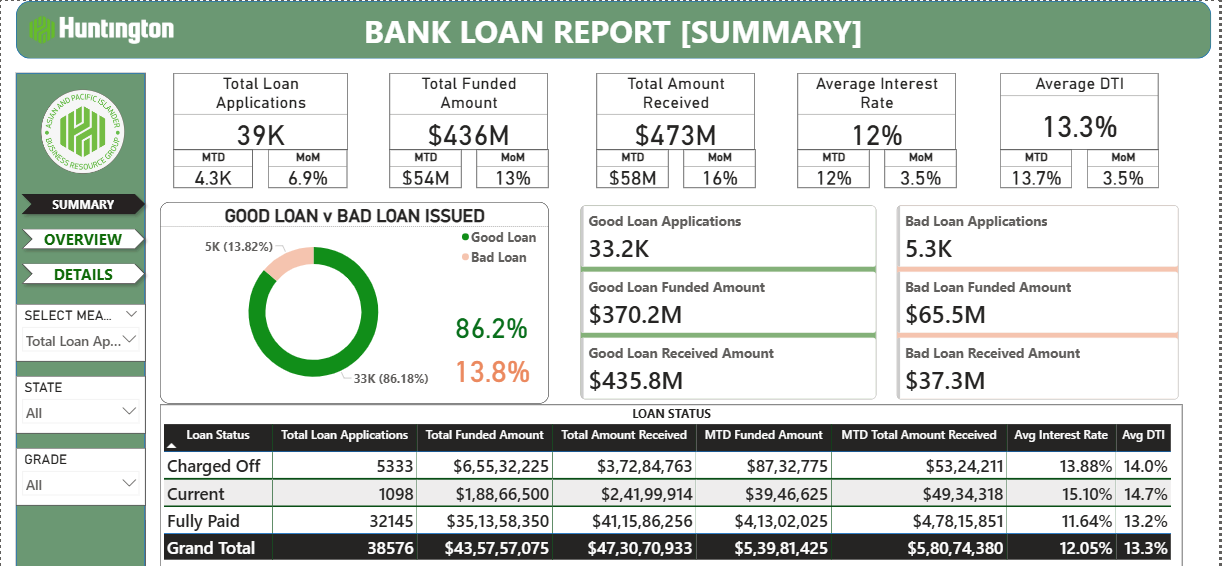

Layout of this report page (visuals, bound fields, positions):
{"tool":"powerbi","page":{"name":"SUMMARY","canvas":[2030,960],"ordinal":0},"visuals":[{"type":"shape","box":[24,0,1992,96],"z":0},{"type":"card","title":"Total Loan Applications","fields":{"Values":["bank bank_loan_data.Total Loan Applications"]},"box":[288,120,290.4,128],"z":0,"group":"g1"},{"type":"card","title":"Total Funded Amount","fields":{"Values":["bank bank_loan_data.Total Funded Amount"]},"box":[648.3,120,264,128],"z":0,"group":"g2"},{"type":"card","title":"Total Amount Received","fields":{"Values":["bank bank_loan_data.Total Amount Received"]},"box":[991.5,120,264,128],"z":0,"group":"g3"},{"type":"card","title":"Average Interest Rate","fields":{"Values":["bank bank_loan_data.Avg Interest Rate"]},"box":[1327,120,264,128],"z":0,"group":"g4"},{"type":"card","title":"Average DTI","fields":{"Values":["bank bank_loan_data.Avg DTI"]},"box":[1665.4,120,264,128],"z":0,"group":"g5"},{"type":"shape","box":[24,120,216,840],"z":1000,"group":"g7"},{"type":"card","title":"MTD","fields":{"Values":["bank bank_loan_data.MTD Loan Applications"]},"box":[288,248,132,64],"z":1000,"group":"g1"},{"type":"card","title":"MTD","fields":{"Values":["bank bank_loan_data.MTD Funded Amount"]},"box":[648.3,248,120,64],"z":1000,"group":"g2"},{"type":"card","title":"MTD","fields":{"Values":["bank bank_loan_data.MTD Total Amount Received"]},"box":[991.5,248,120,64],"z":1000,"group":"g3"},{"type":"card","title":"MTD","fields":{"Values":["bank bank_loan_data.MTD Avg Int Rate"]},"box":[1327,248,120,64],"z":1000,"group":"g4"},{"type":"card","title":"MTD","fields":{"Values":["bank bank_loan_data.MTD Avg DTI"]},"box":[1665.4,248,120,64],"z":1000,"group":"g5"},{"type":"group","id":"g1","title":"Group 1","box":[288,120,264,192],"z":2000},{"type":"card","title":"MoM","fields":{"Values":["bank bank_loan_data.MoM Loan Applications"]},"box":[446.4,248,132,64],"z":2000,"group":"g1"},{"type":"card","title":"MoM","fields":{"Values":["bank bank_loan_data.MoM Total Funded Amount"]},"box":[792.3,248,120,64],"z":2000,"group":"g2"},{"type":"card","title":"MoM","fields":{"Values":["bank bank_loan_data.MoM Total Amount Received"]},"box":[1135.5,248,120,64],"z":2000,"group":"g3"},{"type":"card","title":"MoM","fields":{"Values":["bank bank_loan_data.MoM Avg Int Rate"]},"box":[1471,248,120,64],"z":2000,"group":"g4"},{"type":"card","title":"MoM","fields":{"Values":["bank bank_loan_data.MoM Avg Int Rate"]},"box":[1809.4,248,120,64],"z":2000,"group":"g5"},{"type":"group","id":"g2","title":"Group 1","box":[648.3,120,264,192],"z":3000},{"type":"group","id":"g3","title":"Group 1","box":[991.5,120,264,192],"z":4000},{"type":"group","id":"g4","title":"Group 1","box":[1327,120,264,192],"z":5000},{"type":"group","id":"g5","title":"Group 1","box":[1665.4,120,264,192],"z":6000},{"type":"donutChart","title":"GOOD LOAN v BAD LOAN ISSUED","fields":{"Category":["bank bank_loan_data.Good v Bad Loan"],"Y":["bank bank_loan_data.Total Loan Applications"]},"box":[264,336,648,336],"z":7000,"group":"g6"},{"type":"cardVisual","fields":{"Data":["bank bank_loan_data.Good Loan Applications","bank bank_loan_data.Good Loan Funded Amount","bank bank_loan_data.Good Loan Received Amount"]},"box":[960,336,504,336],"z":7000},{"type":"cardVisual","fields":{"Data":["bank bank_loan_data.Bad Loan Applications","bank bank_loan_data.Bad Loan Funded Amount","bank bank_loan_data.Bad Loan Received Amount"]},"box":[1488,336,480,336],"z":8000},{"type":"card","fields":{"Values":["bank bank_loan_data.Good Loan %"]},"box":[696,504,240,72],"z":8000,"group":"g6"},{"type":"card","fields":{"Values":["bank bank_loan_data.Bad Loan %"]},"box":[696,576,240,72],"z":8500,"group":"g6"},{"type":"group","id":"g6","title":"Group 2","box":[264,336,672,336],"z":9000},{"type":"tableEx","title":"LOAN STATUS","fields":{"Values":["bank bank_loan_data.loan_status","bank bank_loan_data.Total Loan Applications","bank bank_loan_data.Total Funded Amount","bank bank_loan_data.Total Amount Received","bank bank_loan_data.MTD Funded Amount","bank bank_loan_data.MTD Total Amount Received","bank bank_loan_data.Avg Interest Rate","bank bank_loan_data.Avg DTI"]},"box":[264,672,1704,288],"z":10000},{"type":"slicer","fields":{"Values":["bank bank_loan_data.address_state"]},"box":[24,624,216,96],"z":11000,"group":"g7"},{"type":"slicer","fields":{"Values":["Select Measure.Select Measure"]},"box":[24,504,216,96],"z":12000,"group":"g7"},{"type":"slicer","title":"GRADE","fields":{"Values":["bank bank_loan_data.grade"]},"box":[24,744,216,96],"z":13000,"group":"g7"},{"type":"slicer","fields":{"Values":["bank bank_loan_data.purpose"]},"box":[24,864,216,96],"z":14000},{"type":"image","box":[48,0,240,96],"z":15000},{"type":"image","box":[24,144,222,145],"z":16000,"group":"g7"},{"type":"pageNavigator","box":[24,312,224,169],"z":17000,"group":"g7"},{"type":"group","id":"g7","title":"Group 3","box":[24,120,224,840],"z":17001,"group":"g8"},{"type":"group","id":"g8","title":"Group 4","box":[24,120,224,840],"z":17502}]}

Visuals, with their boxes in screenshot pixels (x1, y1, x2, y2), scaled from the page's 2030x960 canvas onto the 1229x566 screenshot:
shape: <box>15,0,1221,57</box>
"Total Loan Applications" card: <box>174,71,350,146</box>
"Total Funded Amount" card: <box>392,71,552,146</box>
"Total Amount Received" card: <box>600,71,760,146</box>
"Average Interest Rate" card: <box>803,71,963,146</box>
"Average DTI" card: <box>1008,71,1168,146</box>
shape: <box>15,71,145,565</box>
"MTD" card: <box>174,146,254,184</box>
"MTD" card: <box>392,146,465,184</box>
"MTD" card: <box>600,146,673,184</box>
"MTD" card: <box>803,146,876,184</box>
"MTD" card: <box>1008,146,1081,184</box>
"Group 1" group: <box>174,71,334,184</box>
"MoM" card: <box>270,146,350,184</box>
"MoM" card: <box>480,146,552,184</box>
"MoM" card: <box>687,146,760,184</box>
"MoM" card: <box>891,146,963,184</box>
"MoM" card: <box>1095,146,1168,184</box>
"Group 1" group: <box>392,71,552,184</box>
"Group 1" group: <box>600,71,760,184</box>
"Group 1" group: <box>803,71,963,184</box>
"Group 1" group: <box>1008,71,1168,184</box>
"GOOD LOAN v BAD LOAN ISSUED" donutChart: <box>160,198,552,396</box>
cardVisual - bank bank_loan_data.Good Loan Applications x bank bank_loan_data.Good Loan Funded Amount: <box>581,198,886,396</box>
cardVisual - bank bank_loan_data.Bad Loan Applications x bank bank_loan_data.Bad Loan Funded Amount: <box>901,198,1191,396</box>
card - bank bank_loan_data.Good Loan %: <box>421,297,567,340</box>
card - bank bank_loan_data.Bad Loan %: <box>421,340,567,382</box>
"Group 2" group: <box>160,198,567,396</box>
"LOAN STATUS" tableEx: <box>160,396,1191,565</box>
slicer - bank bank_loan_data.address_state: <box>15,368,145,424</box>
slicer - Select Measure.Select Measure: <box>15,297,145,354</box>
"GRADE" slicer: <box>15,439,145,495</box>
slicer - bank bank_loan_data.purpose: <box>15,509,145,565</box>
image: <box>29,0,174,57</box>
image: <box>15,85,149,170</box>
pageNavigator: <box>15,184,150,284</box>
"Group 3" group: <box>15,71,150,565</box>
"Group 4" group: <box>15,71,150,565</box>
